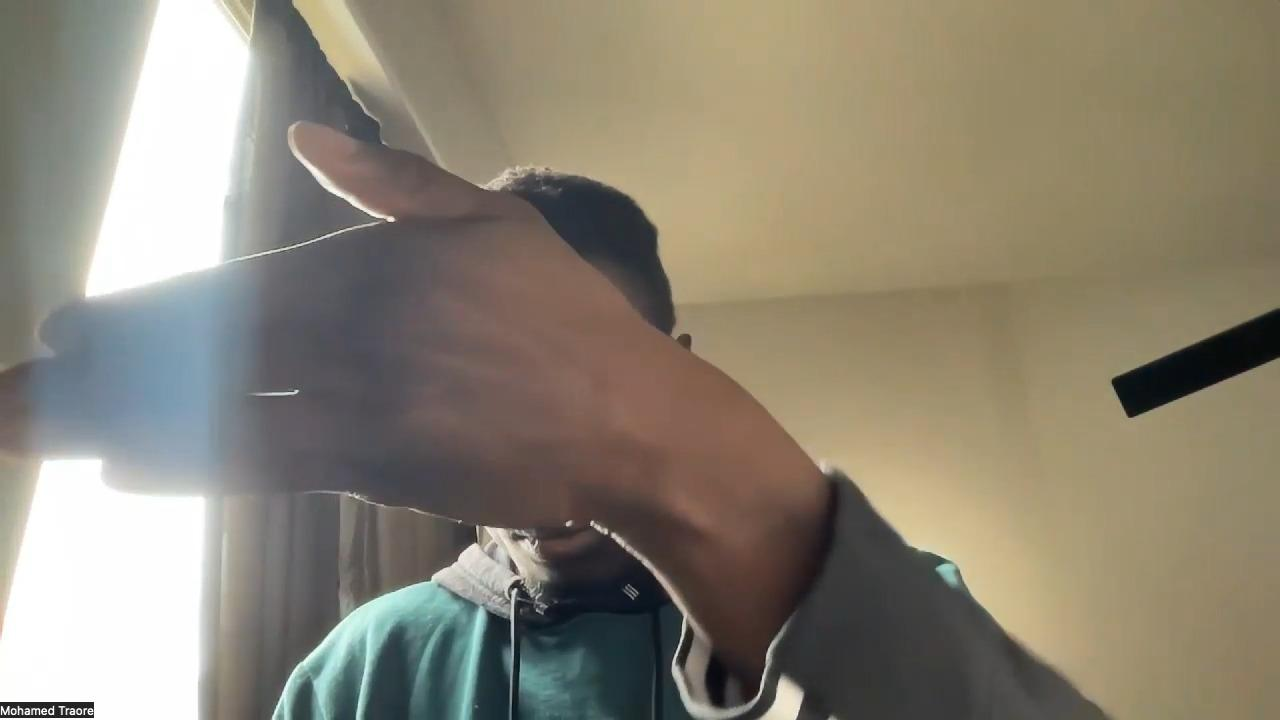Paper: (0, 120, 650, 534)
